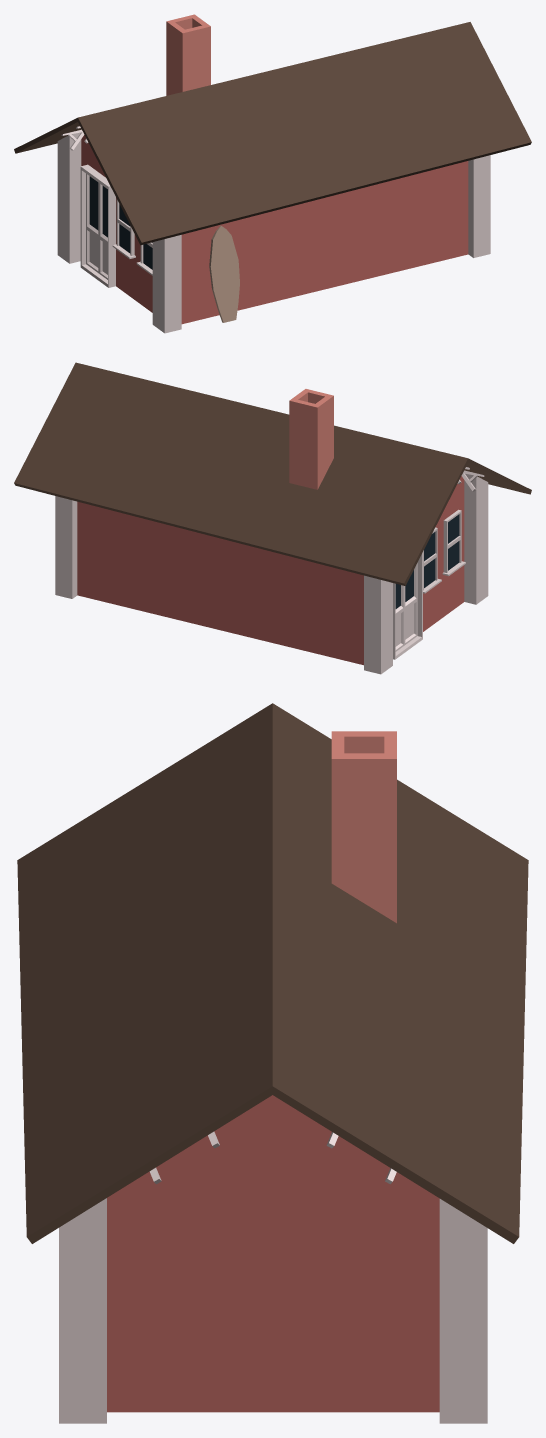
File: Brickhouse.fbx
3 views of the same model, one above another, from view 1: azimuth 30°, elevation 25°; view 2: azimuth 150°, elevation 25°; view 3: azimuth 270°, elevation 25° (orthographic). The views are drawn at different scales.
Visible parts, largest first — view 1: Brickhouse; view 2: Brickhouse; view 3: Brickhouse.
Boxes of the visible parts, left/top/right/bottom form: Brickhouse: left=14, top=14, right=531, bottom=333; Brickhouse: left=14, top=362, right=531, bottom=674; Brickhouse: left=17, top=703, right=528, bottom=1423.
Size of the model in its own units: 176 by 99.14 by 98.21.
